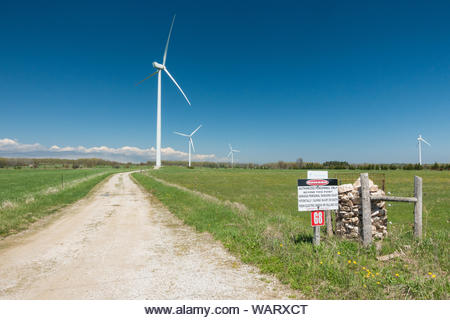faulty: (410, 128, 432, 165)
working: (134, 15, 191, 115)
